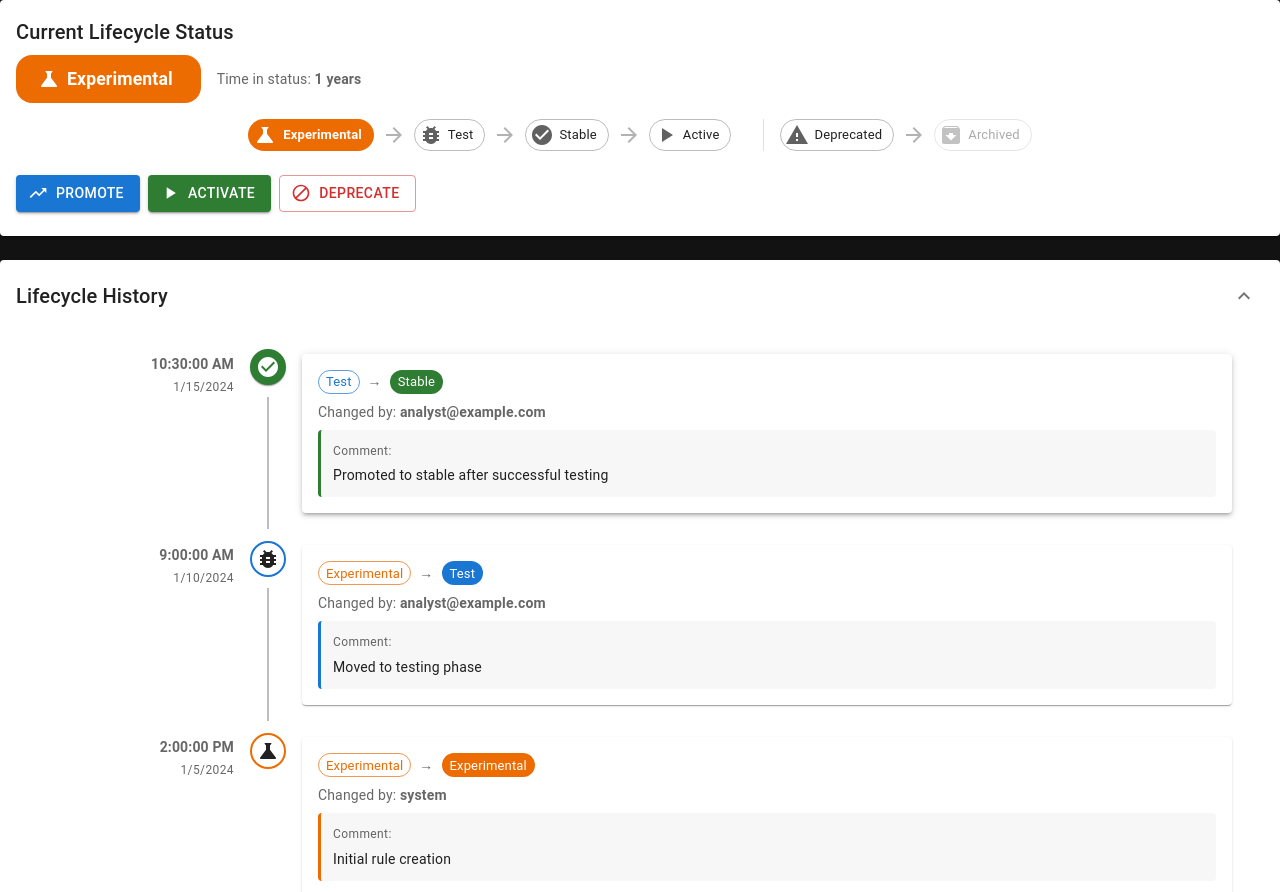
Scenario: RuleLifecyclePanel › Error Handling › shows loading state during transition
Click the button with aria-label "promote from experimental" at (78, 193), box x1=16 y1=175 x2=140 y2=212
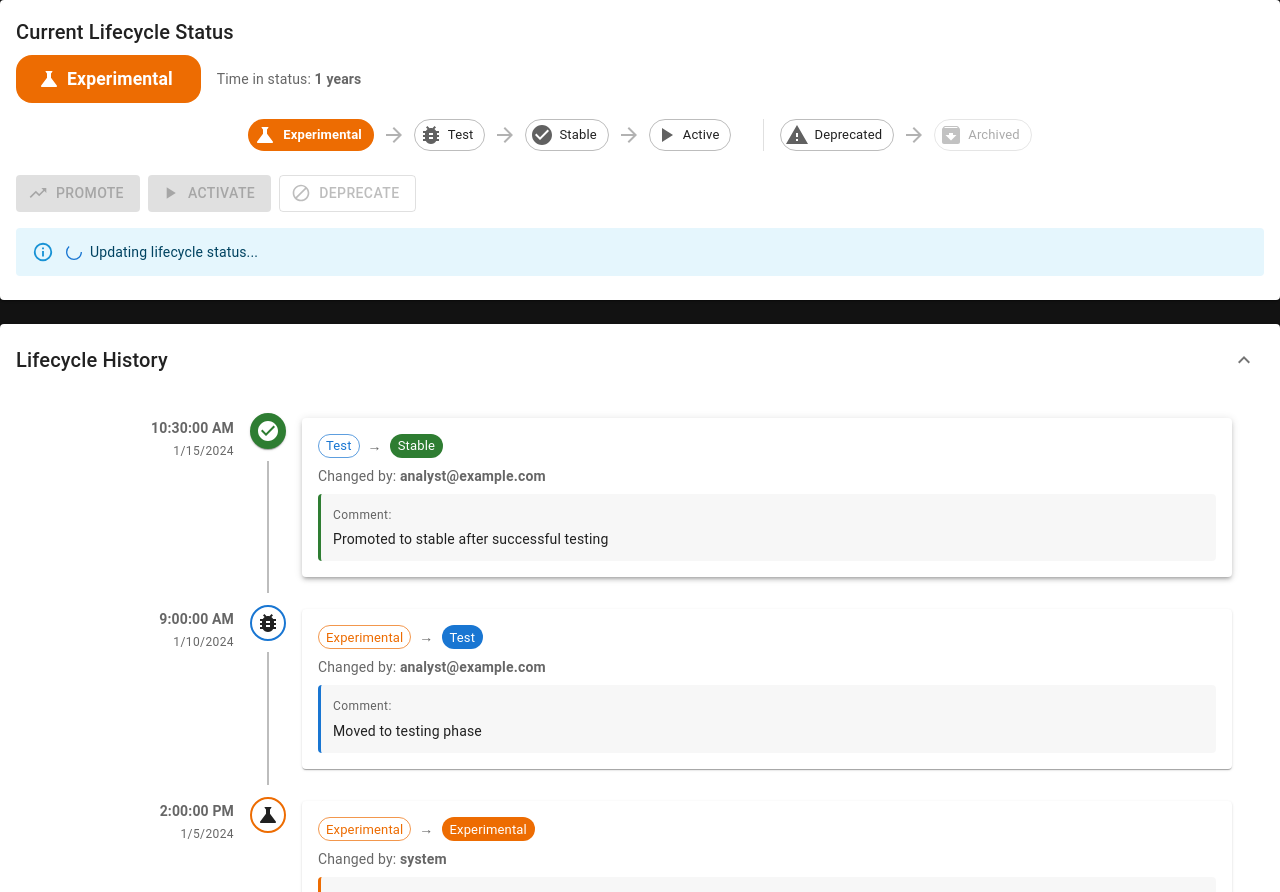
expect the text "Updating lifecycle status..." is shown: met, box x1=90 y1=242 x2=258 y2=262
